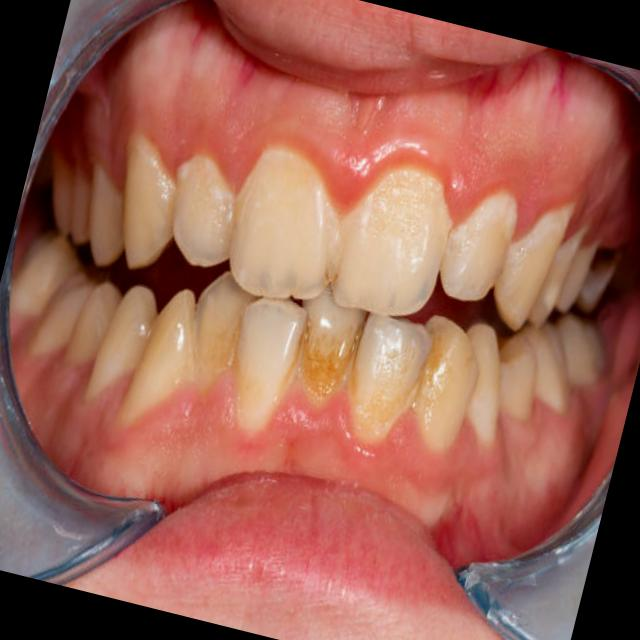calculus: (321, 326, 434, 466), (279, 294, 364, 410)
